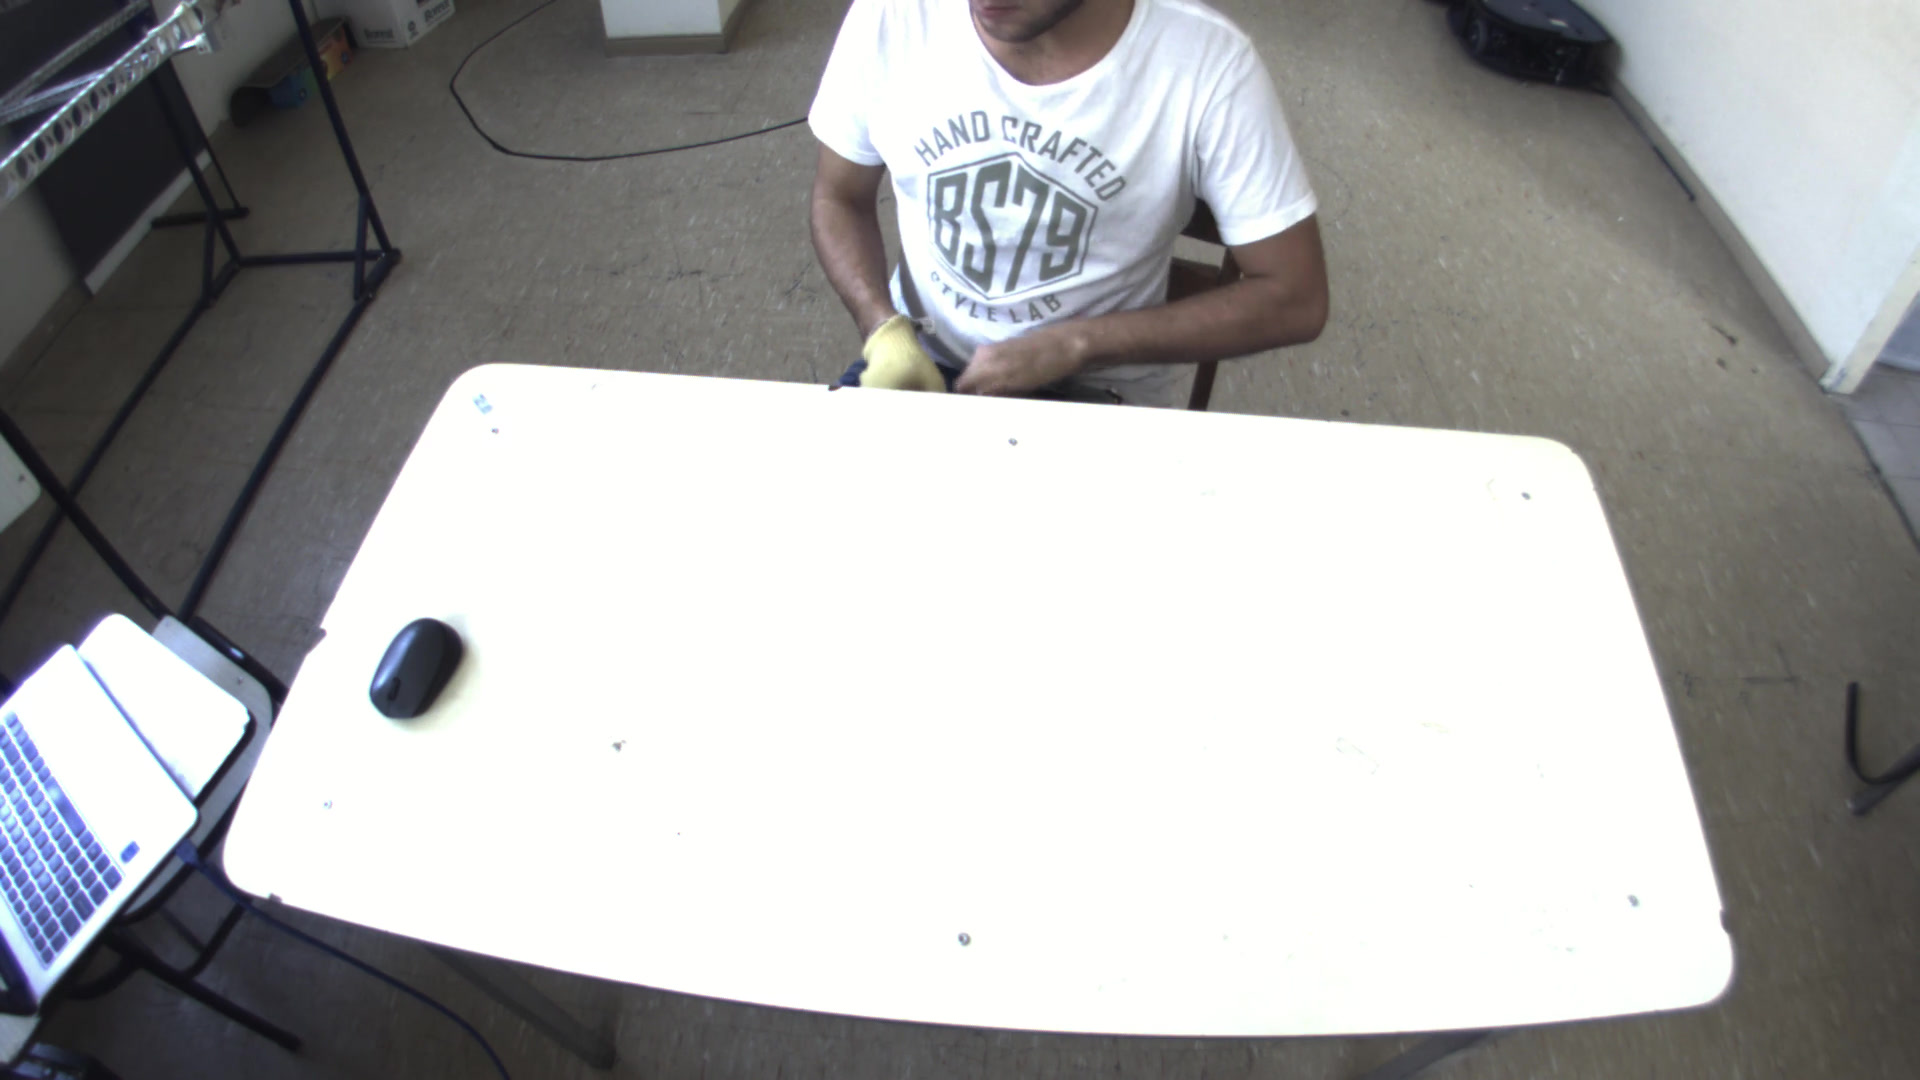hand: (955, 316, 1093, 402), (848, 313, 942, 397)
